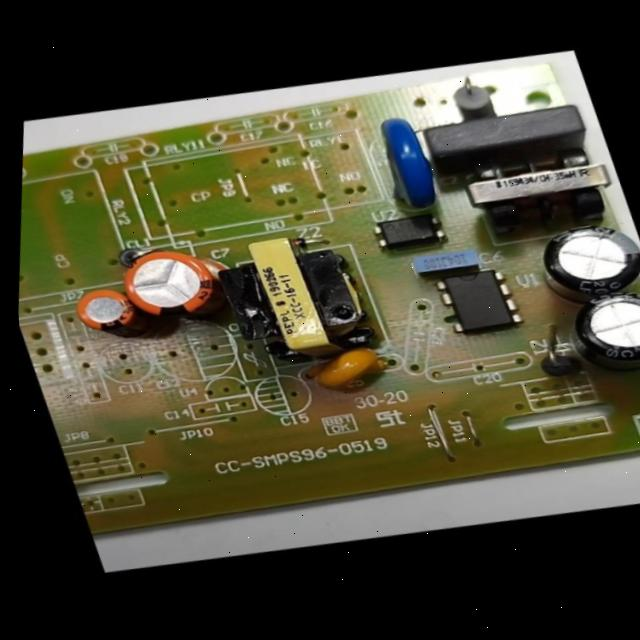Cap1: (104, 236, 230, 330)
Cap2: (64, 279, 144, 341)
Cap3: (523, 209, 640, 308)
Cap4: (551, 277, 640, 376)
MOSFET: (425, 260, 531, 343)
Mov: (359, 109, 451, 214)
Resistor: (439, 69, 503, 128)
Transformer: (194, 217, 390, 376), (451, 133, 629, 245)
